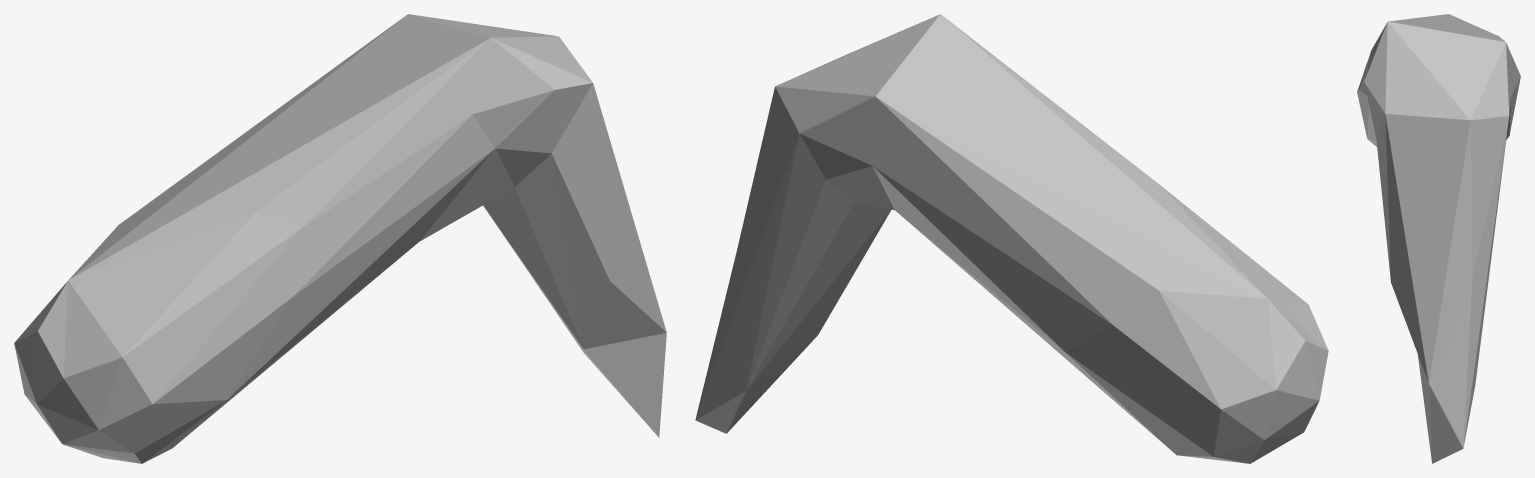
Rendered from animal_megascarab_blob_leg.obj.
The picture shows the model from 3 angles, left to right: view 1: azimuth 30°, elevation 25°; view 2: azimuth 150°, elevation 25°; view 3: azimuth 270°, elevation 25°; orthographic projection. The views are drawn at different scales.
Parts seen in each view (by area): view 1: animal_megascarab_leg; view 2: animal_megascarab_leg; view 3: animal_megascarab_leg.
Boxes of the visible parts, x1=… form: animal_megascarab_leg: x1=14, y1=14, x2=666, y2=463; animal_megascarab_leg: x1=695, y1=14, x2=1328, y2=463; animal_megascarab_leg: x1=1357, y1=14, x2=1520, y2=463.
Size of the model in its own units: 0.1968 by 0.1387 by 0.0561.
